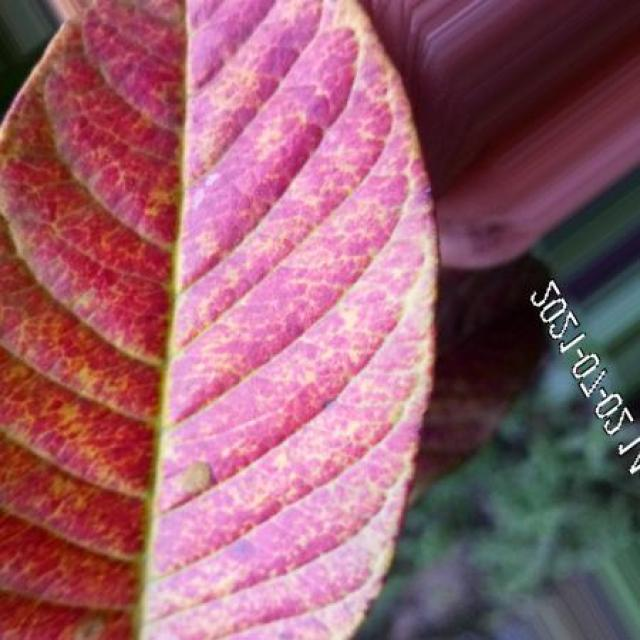Red Rust: (0, 0, 439, 640)
